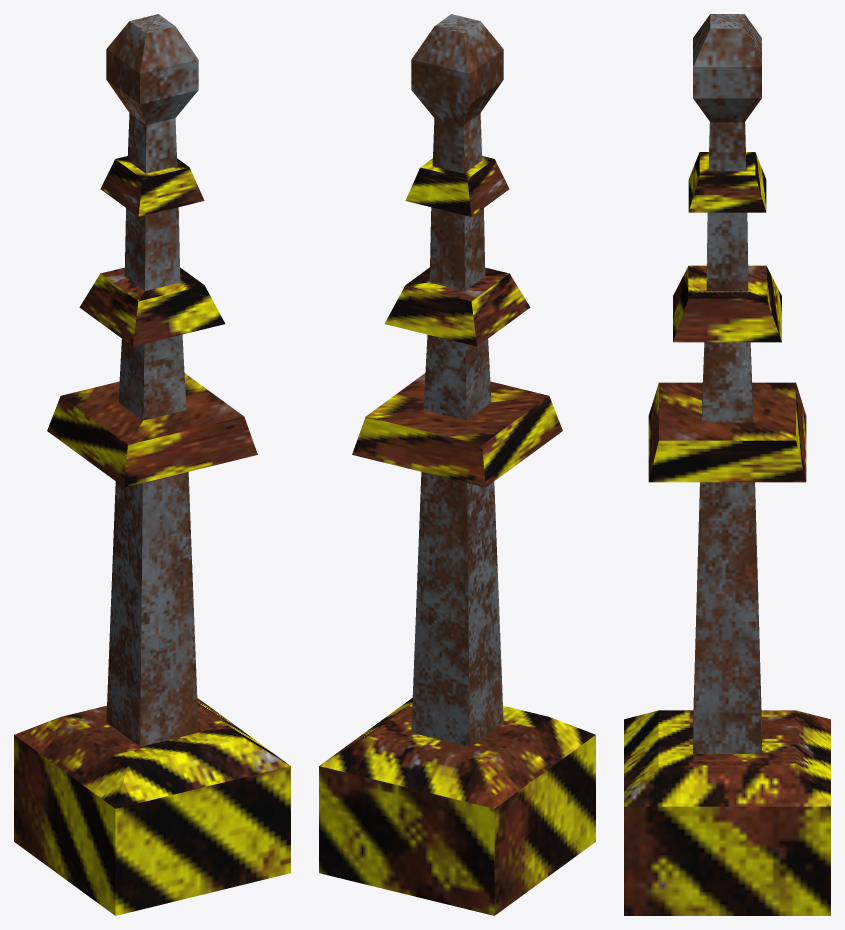
File: tesla coil.fbx
The picture shows the model from 3 angles, left to right: view 1: azimuth 30°, elevation 25°; view 2: azimuth 150°, elevation 25°; view 3: azimuth 270°, elevation 25°; orthographic projection. The views are drawn at different scales.
Parts seen in each view (by area): view 1: Tesla Coil; view 2: Tesla Coil; view 3: Tesla Coil.
Part boxes in pixels (<box>): Tesla Coil: <box>14,14,290,915</box>; Tesla Coil: <box>319,14,595,915</box>; Tesla Coil: <box>624,14,830,915</box>.
Size of the model in its own units: 49.44 by 225 by 49.44.
